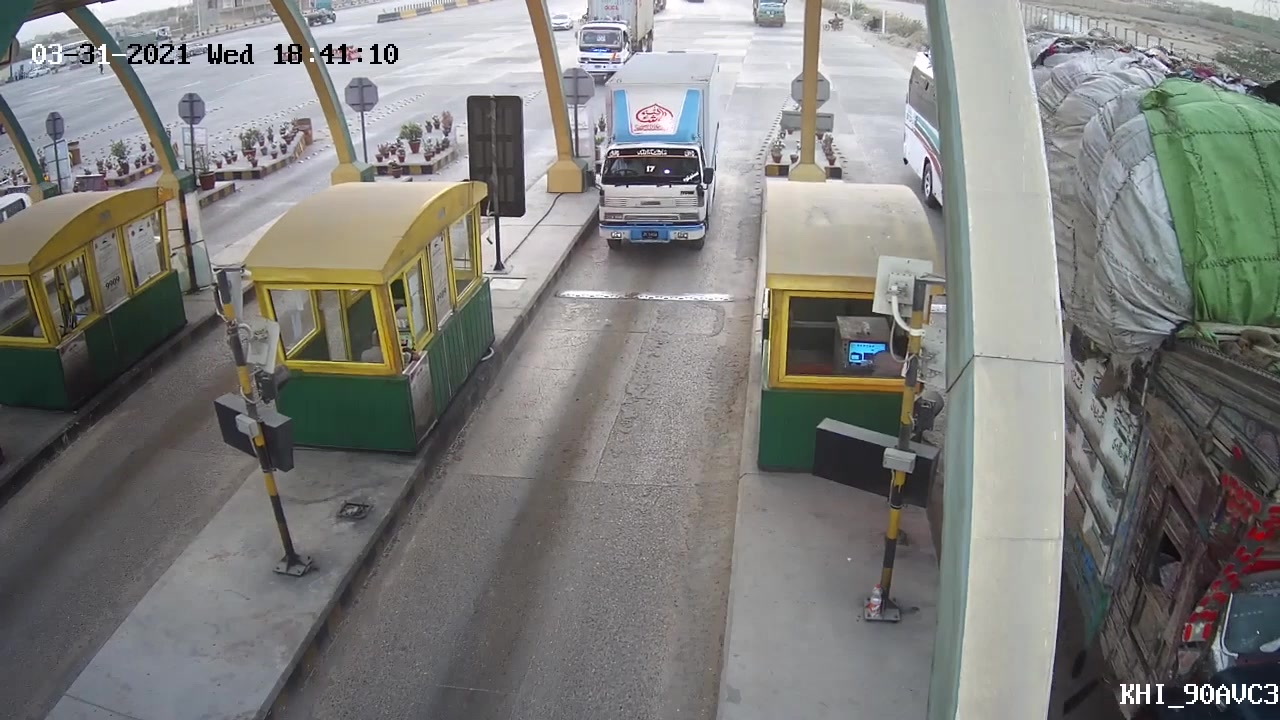F5: (583, 46, 726, 266)
